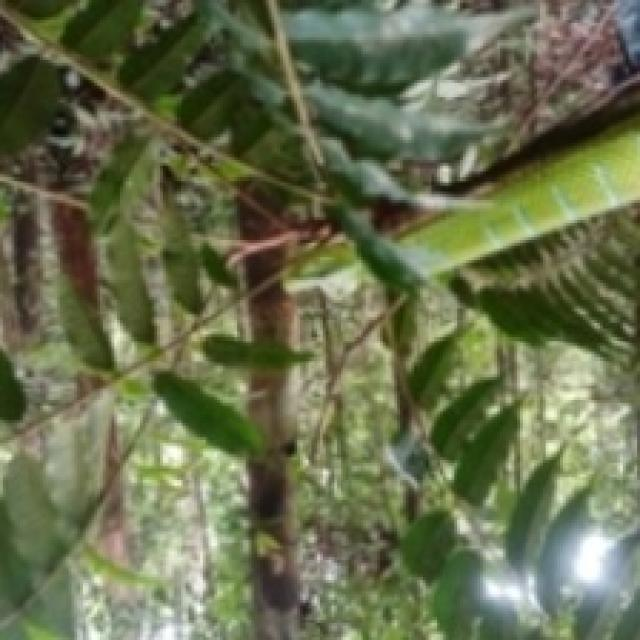north ph temple pitviper: (400, 113, 640, 276), (288, 242, 372, 298)
